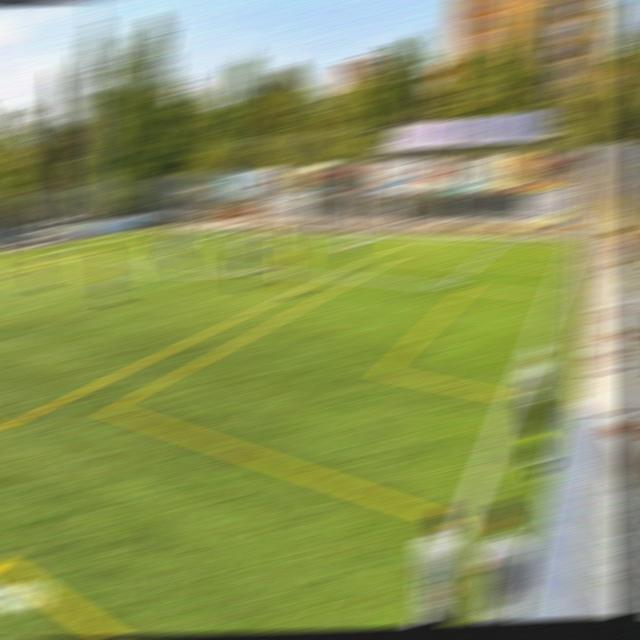bigarea_bottom_inner: (433, 275, 461, 297)
bigarea_bottom_outter: (490, 233, 513, 248)
corner: (563, 237, 587, 247), (124, 226, 141, 232)
smallarea_bottom_outter: (370, 233, 388, 241)
smallarea_top_inner: (187, 236, 206, 243)
top_arc_area_intersection: (111, 255, 130, 265)
